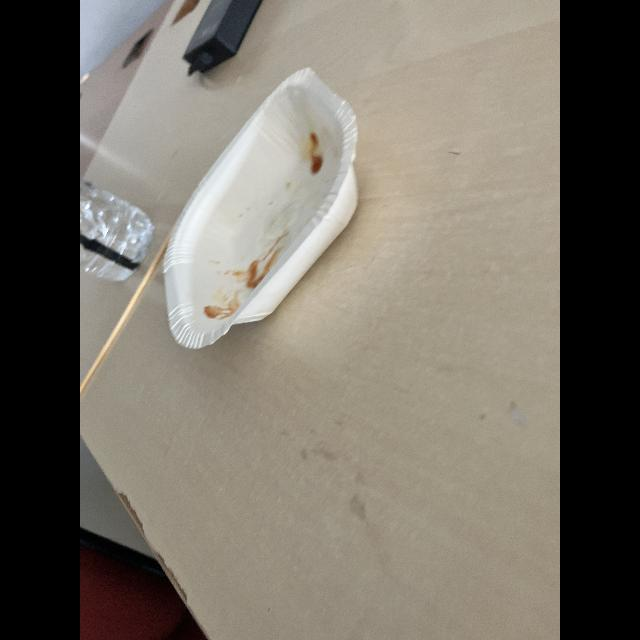cardboard_bowl: (153, 60, 373, 352)
